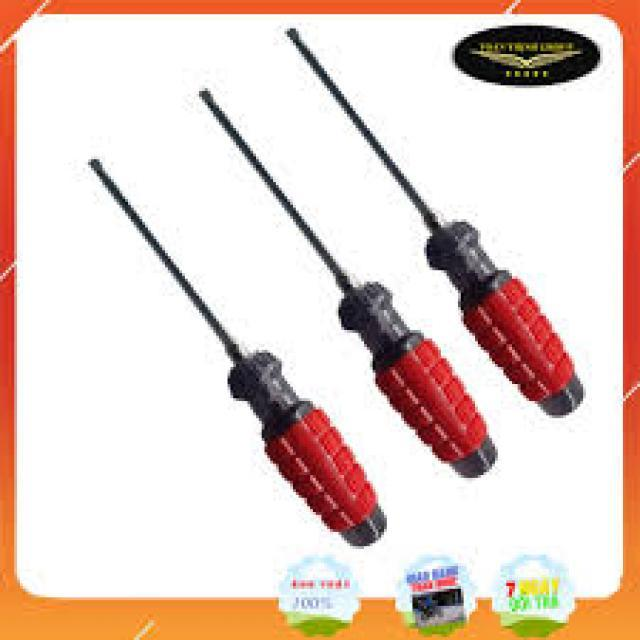screwdriver: (78, 155, 391, 553), (194, 82, 501, 486), (280, 23, 588, 421)
